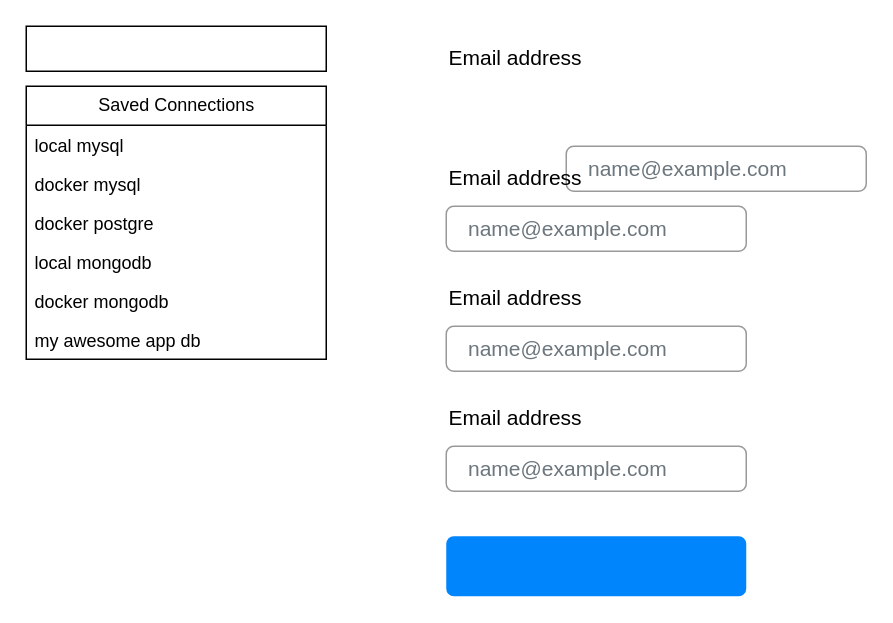
Some shapes in this 893 by 623 pixel diagram are drawn without their labels. The centre of each missing label's shape, as x and y in pixels:
"New Connection" belongs at [175,48].
"Save & Connect" belongs at [596,566].
